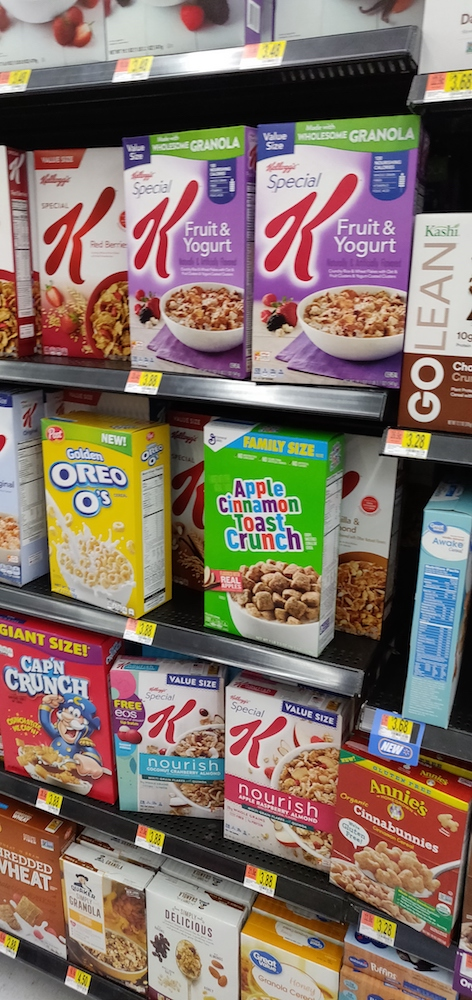Oreo Golden-568301011: (34, 417, 164, 607)
